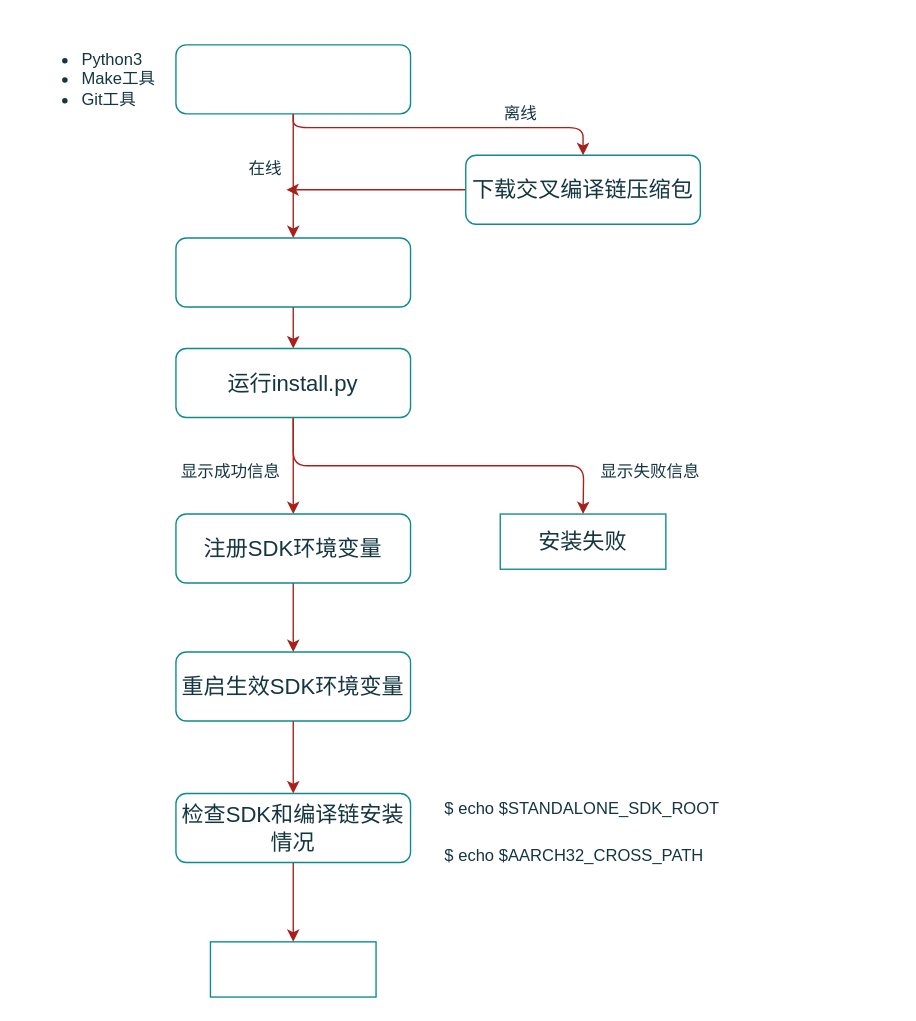
Some shapes in this 916 by 1021 pixel diagram are drawn without their labels. Each missing label, with the box of its shape:
从Gitee下载SDK源码: (175, 237, 411, 307)
准备开发主机: (175, 43, 411, 114)
安装成功: (209, 940, 376, 997)
